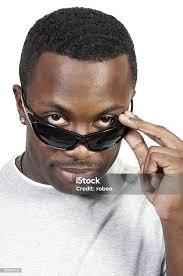sunglasses: (19, 98, 141, 155)
